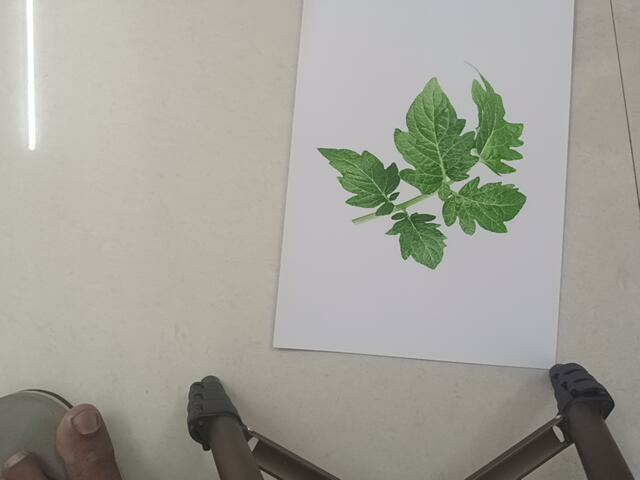Tomamto_Leaf_Healthy: (322, 65, 528, 273)
